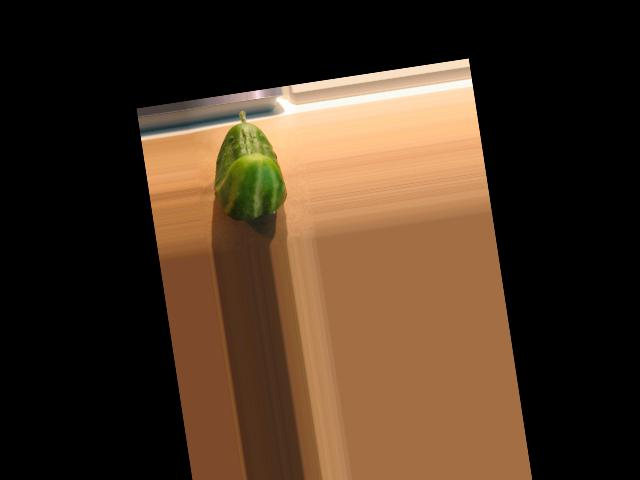cucumber: (204, 105, 290, 224)
